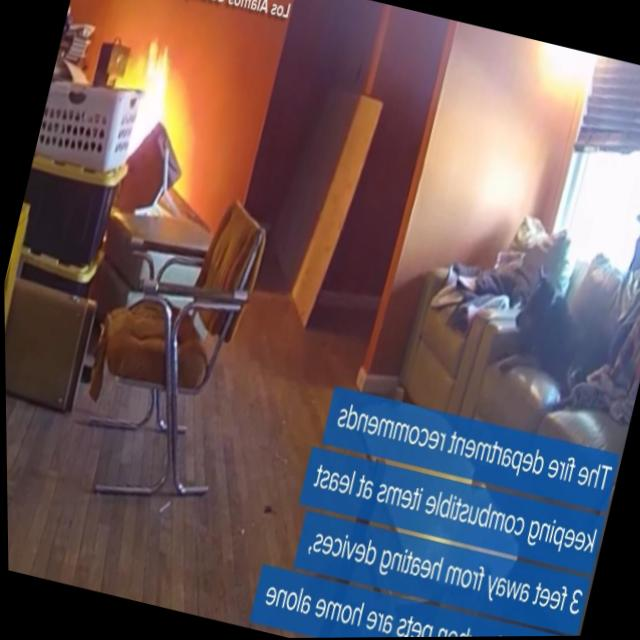fire: (107, 31, 190, 163)
